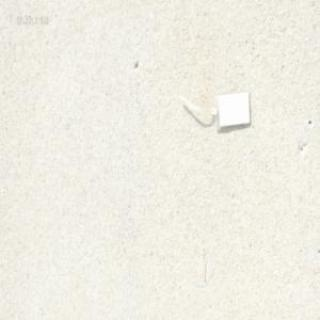LuggageTagtrack_idkeyframe: (175, 86, 252, 131)
